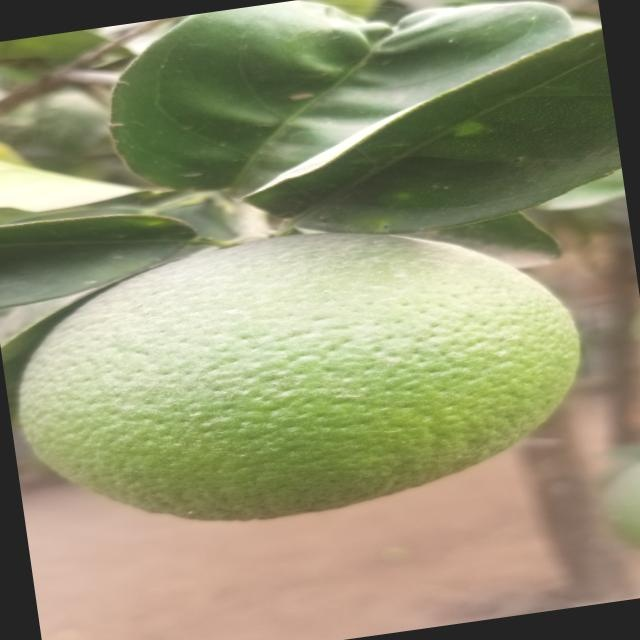agrume: (5, 205, 592, 551)
